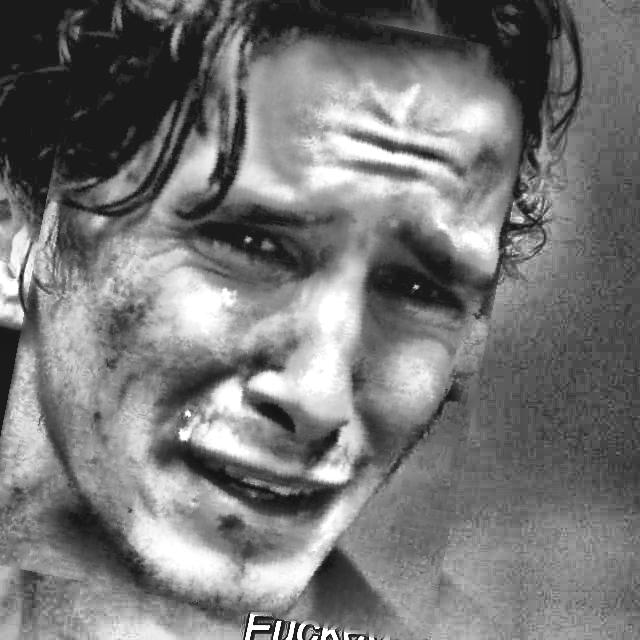sad: (2, 0, 514, 629)
